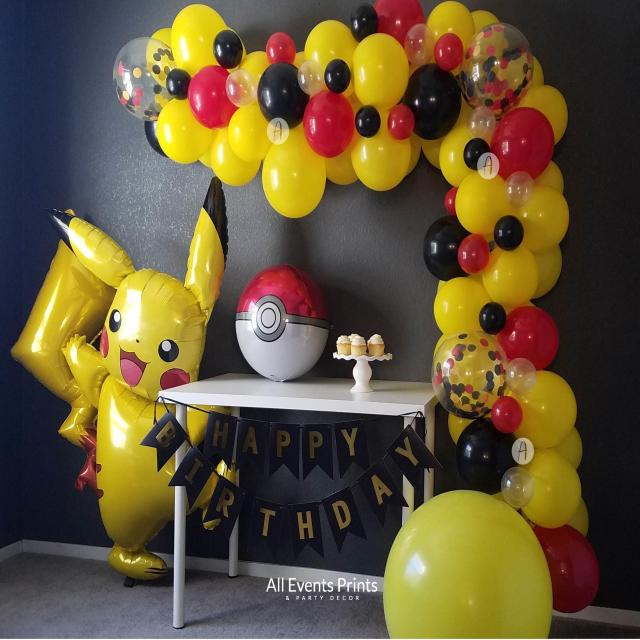pikachu: (15, 181, 232, 585)
